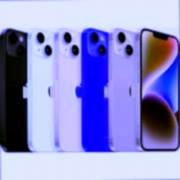iphone: (135, 28, 180, 153)
